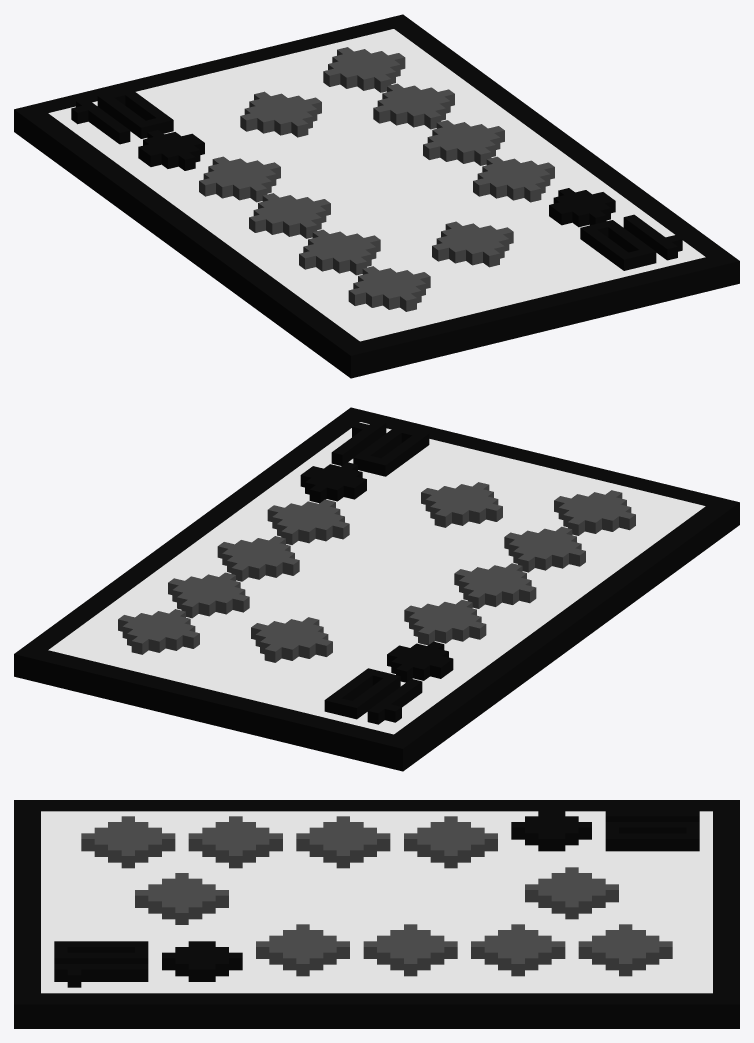
File: Dia10.obj
3 renders of one model, top to bottom at view 1: azimuth 30°, elevation 25°; view 2: azimuth 150°, elevation 25°; view 3: azimuth 270°, elevation 25°, orthographic. The views are drawn at different scales.
Bounding box in the file's own units: 36 × 3 × 54.
Materials: 1 (1 with a texture image).
